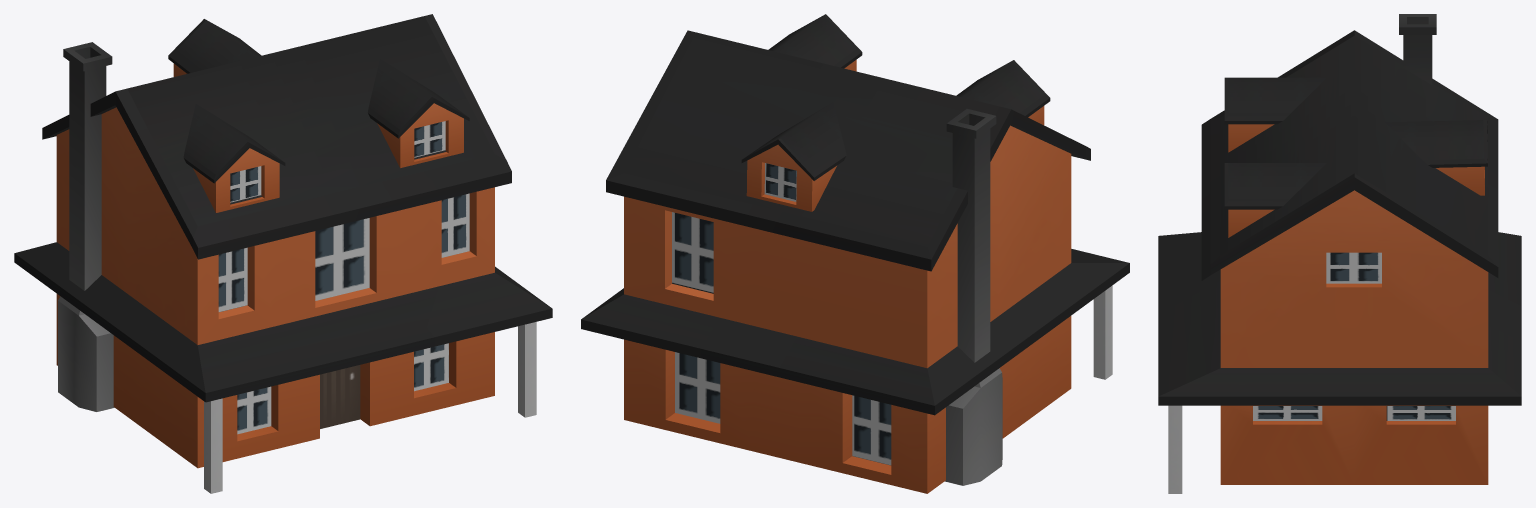
The model's file is House_complex.FBX.
The picture shows the model from 3 angles, left to right: view 1: azimuth 30°, elevation 25°; view 2: azimuth 150°, elevation 25°; view 3: azimuth 270°, elevation 25°; orthographic projection. The views are drawn at different scales.
Visible parts, largest first — view 1: Box009; view 2: Box009; view 3: Box009.
Part boxes in pixels (<box>): Box009: <box>14,14,552,493</box>; Box009: <box>581,14,1129,493</box>; Box009: <box>1158,14,1521,493</box>.
Size of the model in its own units: 5.23 by 4.93 by 4.98.
